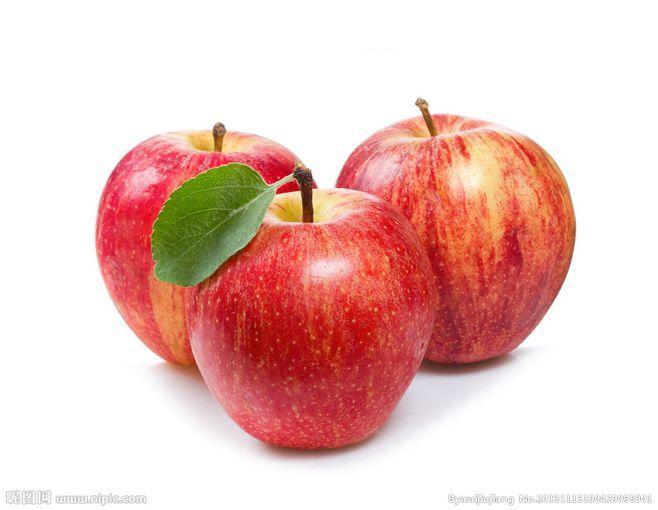apple: (172, 186, 435, 450), (348, 107, 591, 370), (91, 119, 319, 365)
